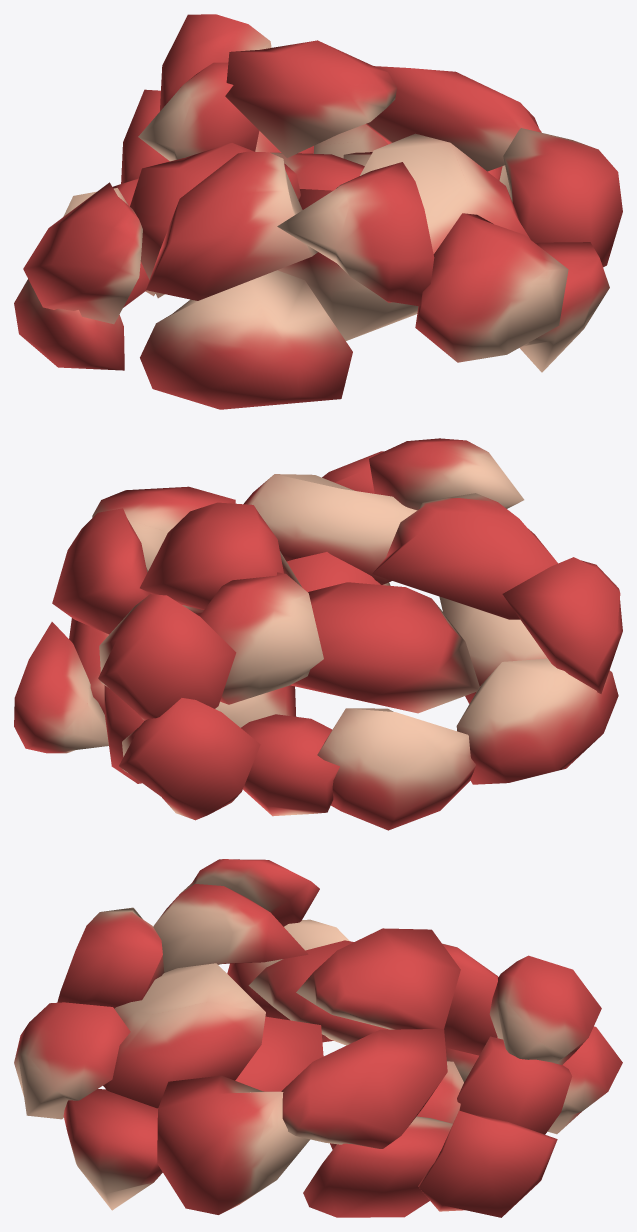
File: strawberrychunks.fbx
The picture shows the model from 3 angles, top to bottom: view 1: azimuth 30°, elevation 25°; view 2: azimuth 150°, elevation 25°; view 3: azimuth 270°, elevation 25°; orthographic projection. The views are drawn at different scales.
Visible parts, largest first — view 1: Cube.001; view 2: Cube.001; view 3: Cube.001.
Part boxes in pixels (x1,y1,x2,y2): Cube.001: [14, 14, 622, 409]; Cube.001: [14, 438, 622, 830]; Cube.001: [14, 859, 622, 1217].
Bounding box in the file's own units: 20.67 × 9.06 × 21.42.
Materials: 1 (1 with a texture image).
